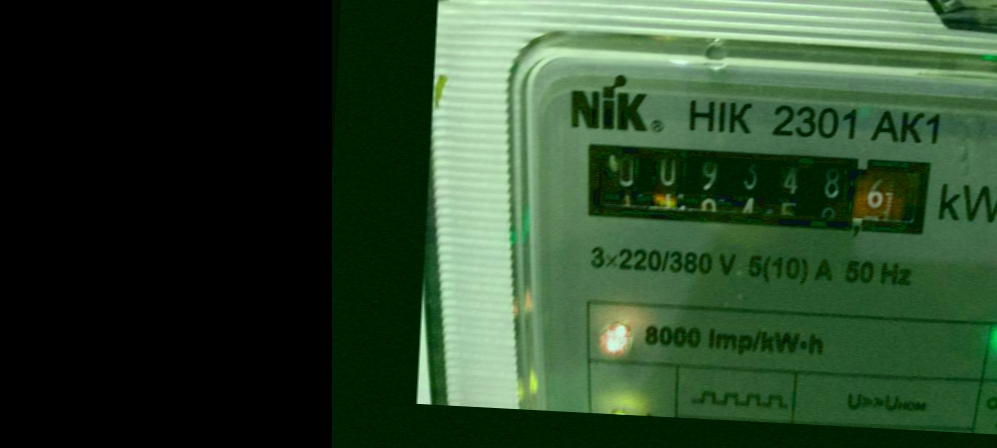0: (655, 152, 678, 189), (614, 151, 636, 187)
3: (737, 157, 761, 190)
4: (777, 159, 800, 197)
6: (864, 174, 887, 209)
8: (820, 163, 842, 198)
9: (698, 155, 718, 190)
screen: (560, 127, 950, 249)
